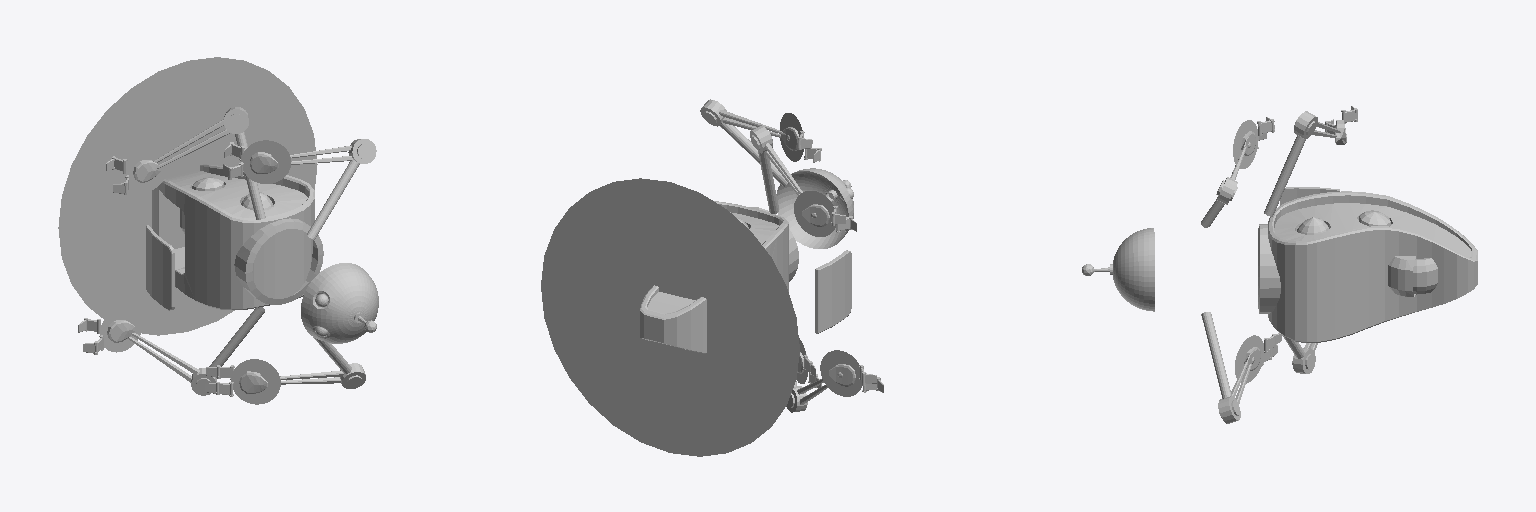
The model's file is toon_bot.obj.
The picture shows the model from 3 angles: view 1: azimuth 30°, elevation 25°; view 2: azimuth 150°, elevation 25°; view 3: azimuth 270°, elevation 25°; orthographic projection.
Bounding box in the file's own units: 188 × 175 × 224.